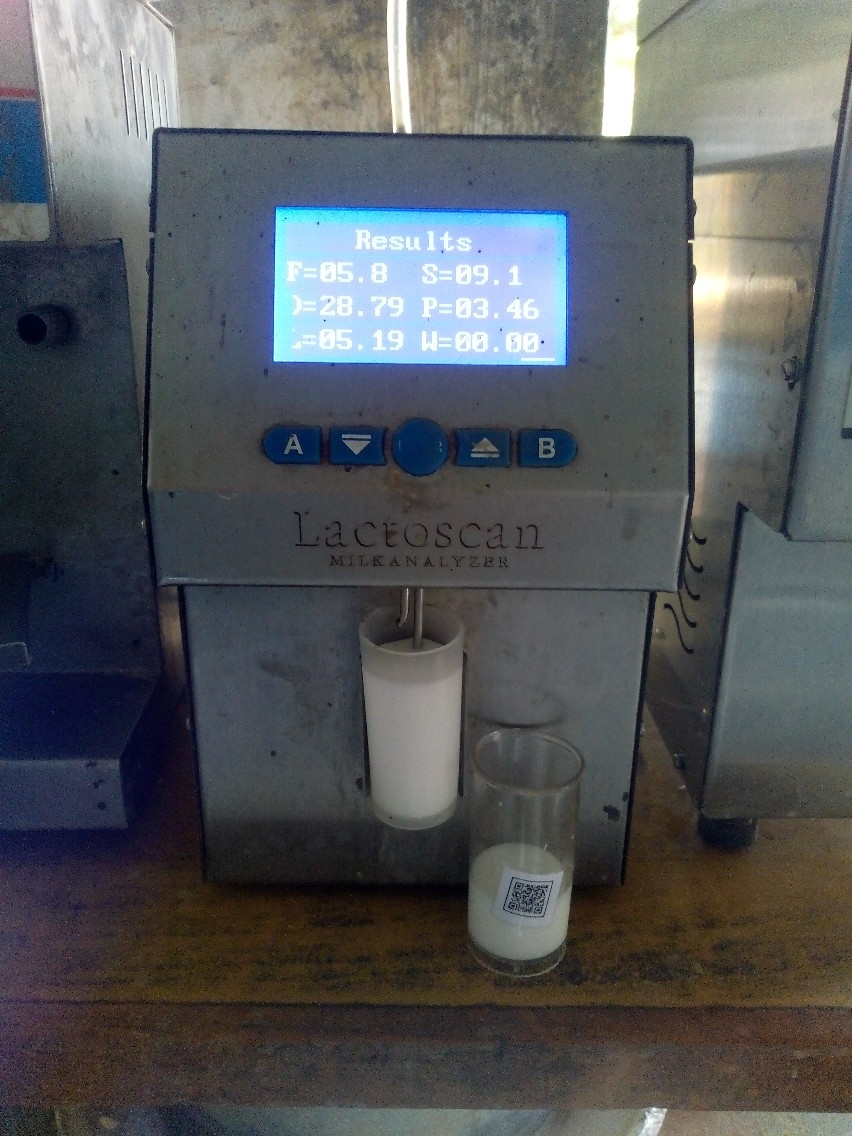lcd: (260, 197, 578, 371)
qr: (490, 861, 586, 944)
